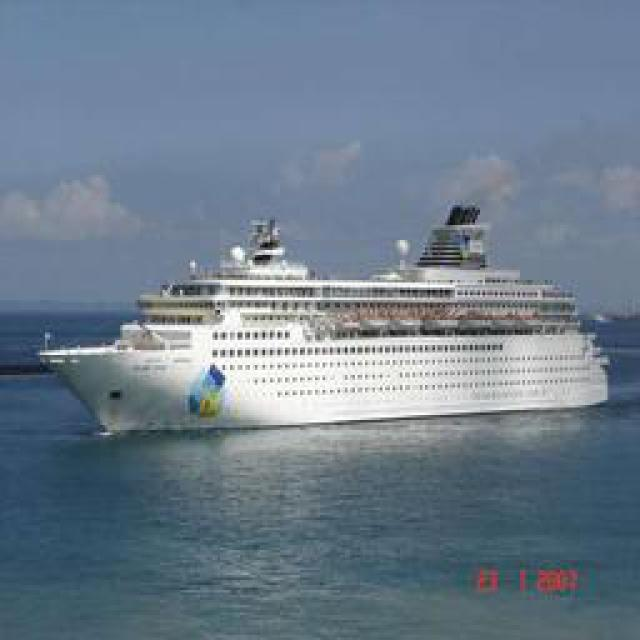Ship: (39, 199, 604, 434)
